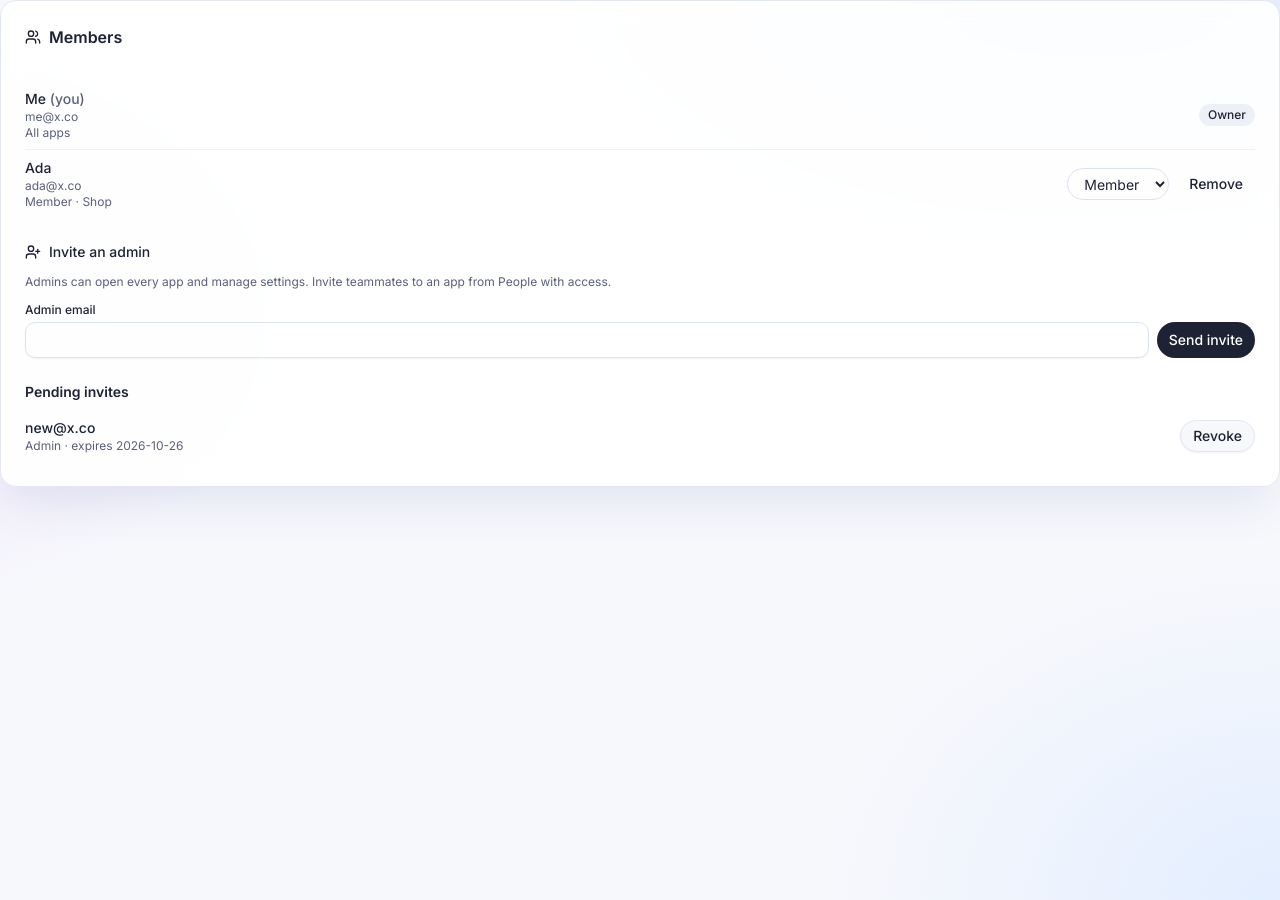
Test: Members (OWNER) › a MEMBER made VIEWER keeps her apps, now as Viewer
Select "Viewer" in the dropdown named "Role for ada@x.co" at (1118, 184), box [1067,168,1169,200]
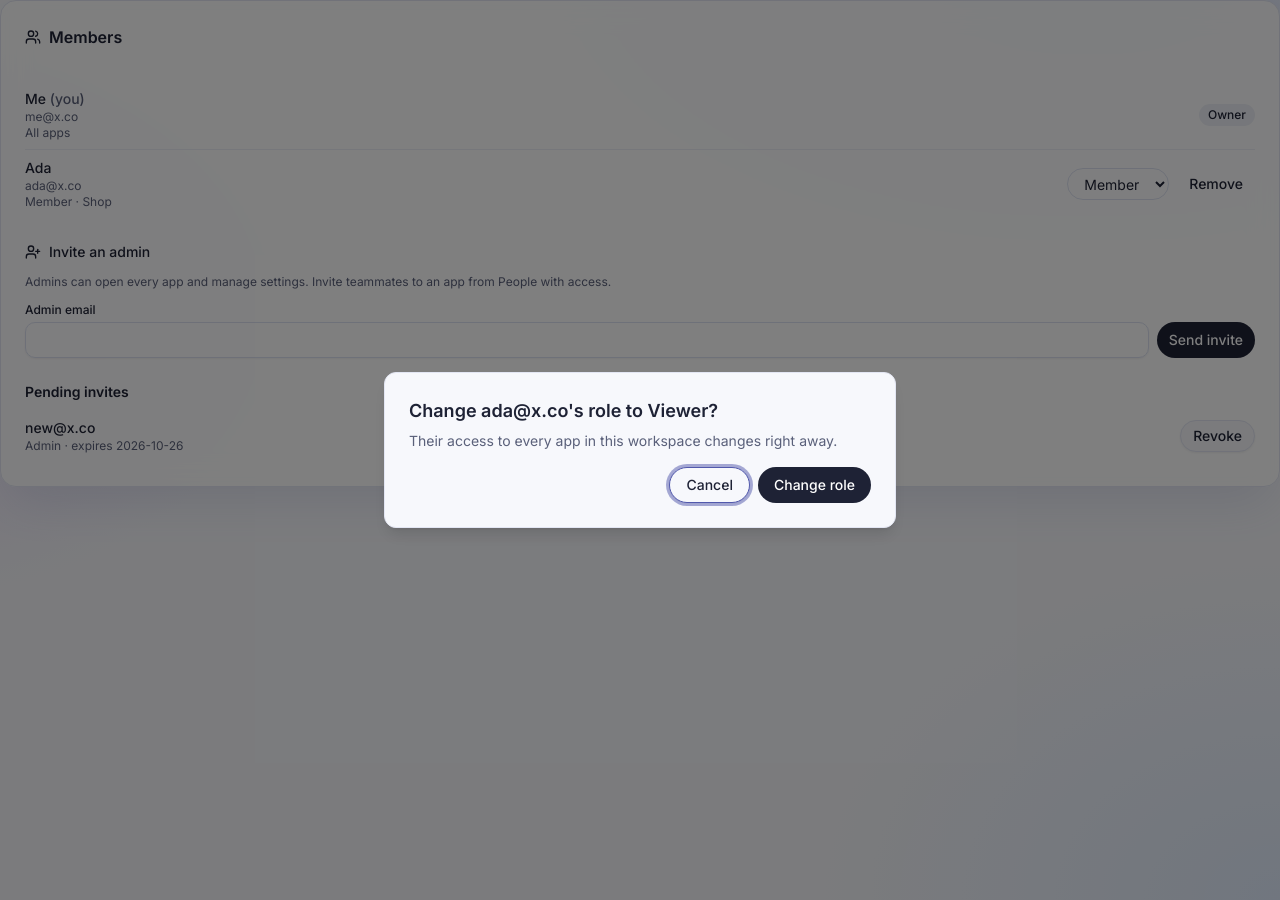
Click the button "Change role".
click(814, 485)  # box [758,467,871,503]
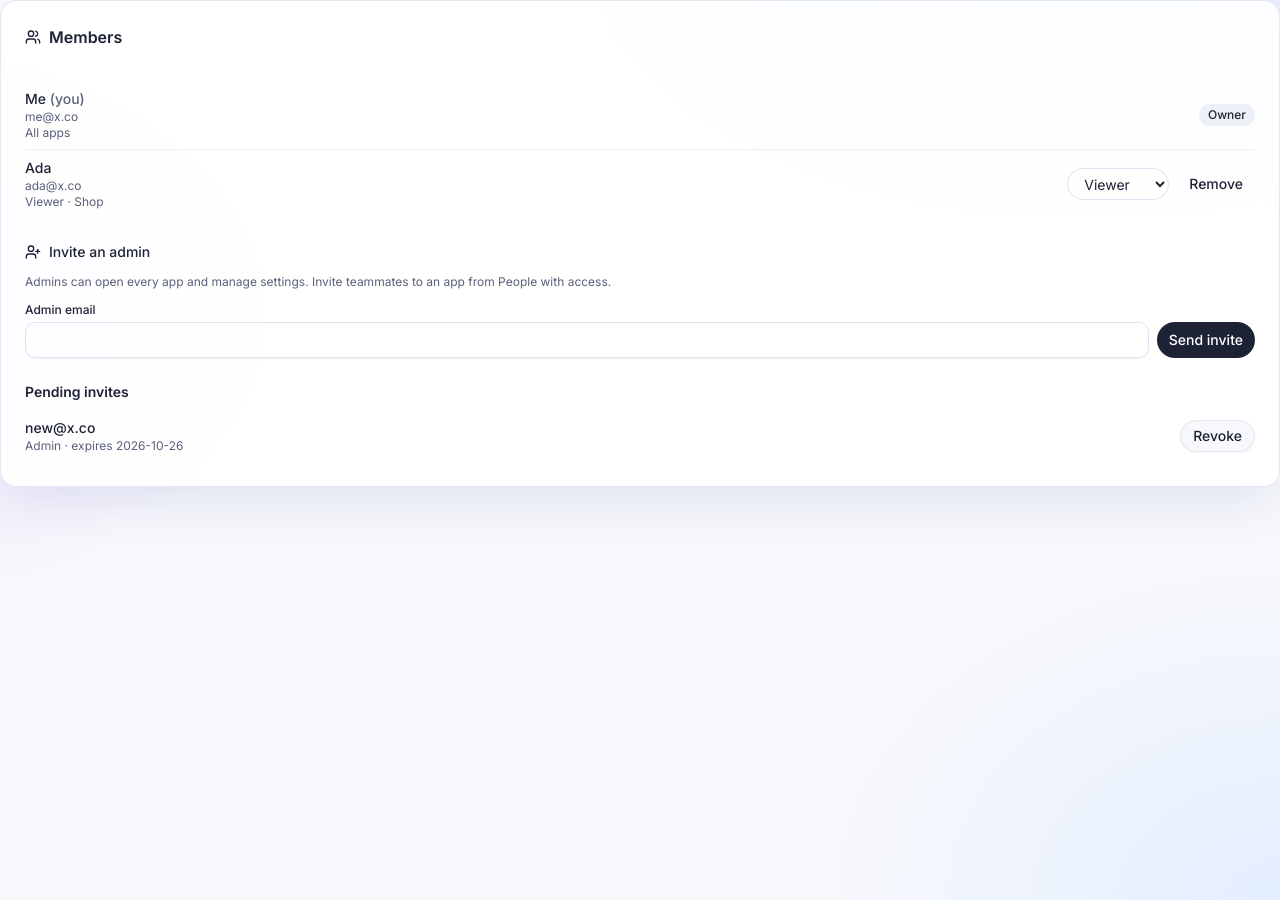
Check: the text "Viewer · Shop" is shown, box [25,194,104,209]
